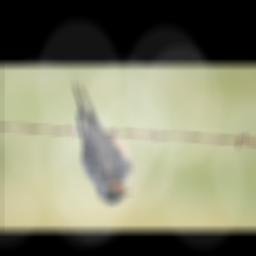Swallow: (69, 83, 133, 205)
